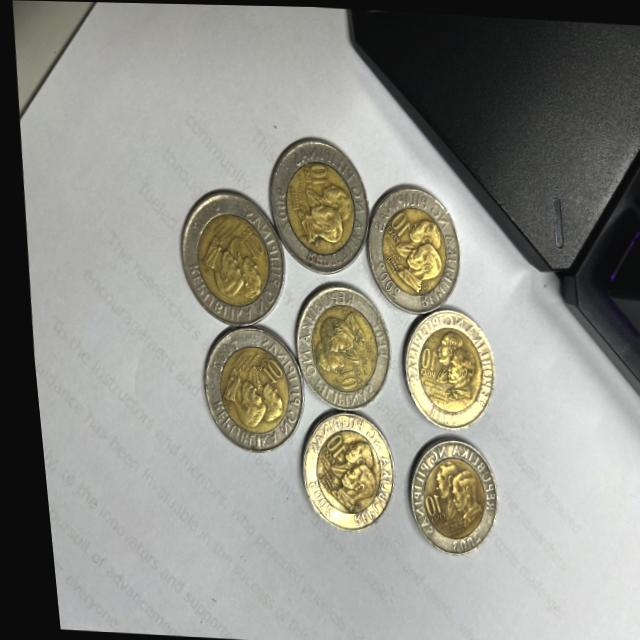10_Old_Front: (235, 230, 258, 259), (384, 209, 407, 237), (252, 357, 274, 384), (411, 491, 433, 518), (410, 343, 431, 371), (305, 160, 324, 187), (316, 433, 335, 459), (328, 365, 346, 389)
